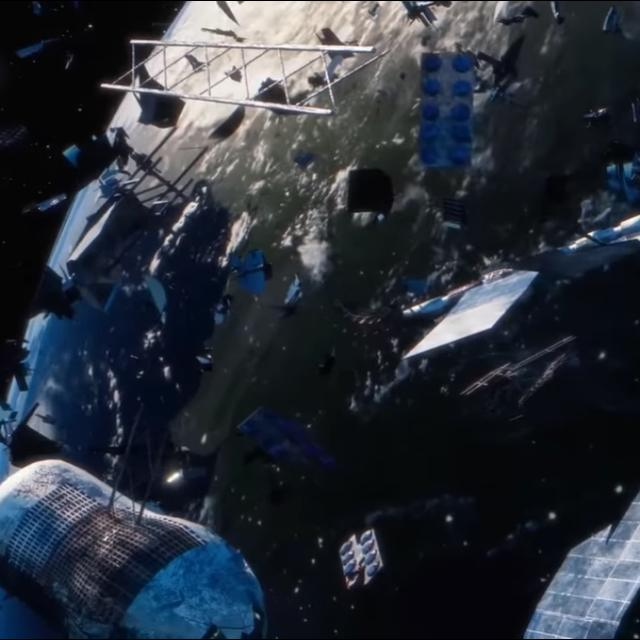large_debris: (2, 392, 280, 640), (45, 117, 236, 342), (88, 20, 373, 132), (508, 469, 639, 640), (395, 245, 539, 358), (408, 39, 484, 186), (569, 148, 640, 278), (322, 513, 386, 598)
